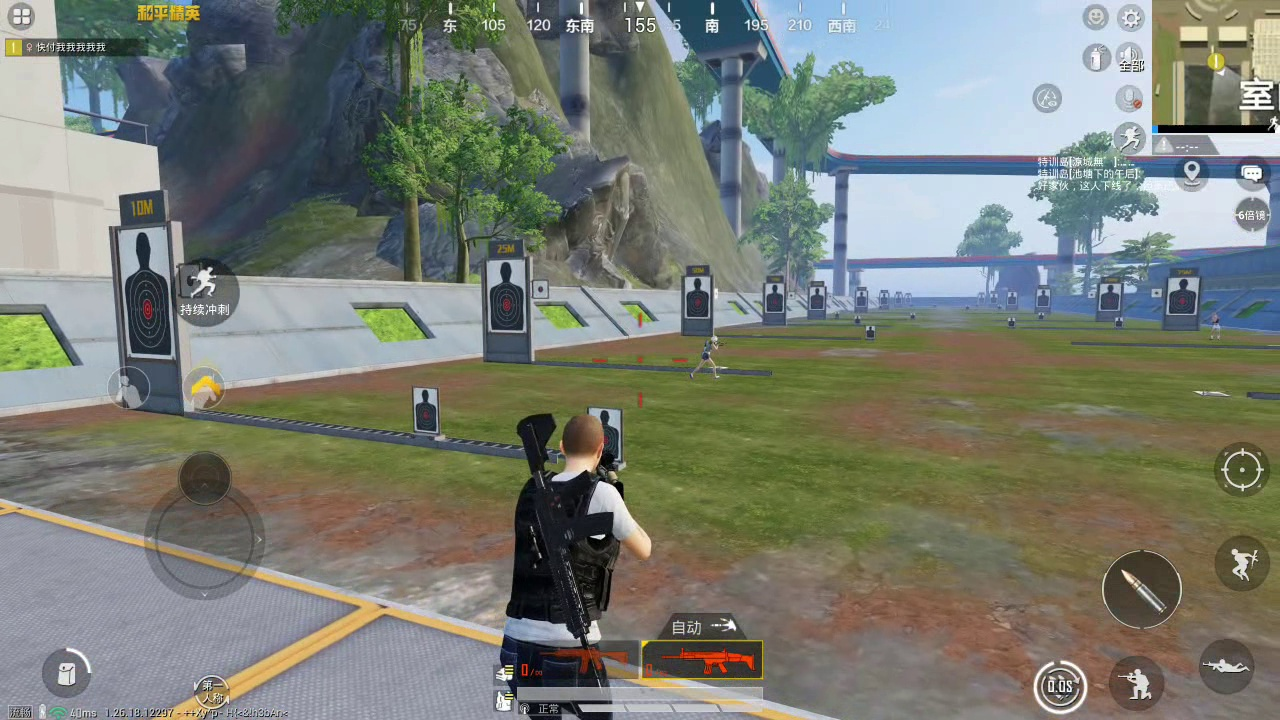enemy: (686, 334, 721, 381)
